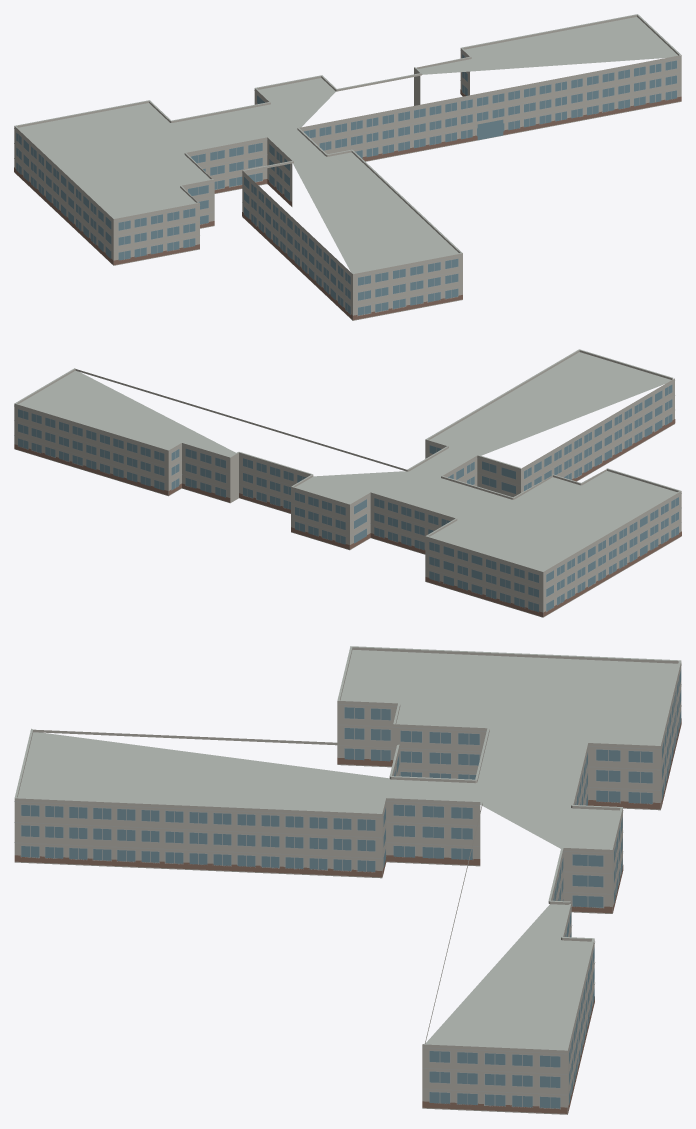
File: public-0779413d-1518-4b87-9c7f-f5390f513fe1.glb
3 views of the same model, one above another, from view 1: azimuth 30°, elevation 25°; view 2: azimuth 150°, elevation 25°; view 3: azimuth 270°, elevation 25° (orthographic). The views are drawn at different scales.
Visible parts, largest first — view 1: public-0779413d-1518-4b87-9c7f-f5390f513fe1; view 2: public-0779413d-1518-4b87-9c7f-f5390f513fe1; view 3: public-0779413d-1518-4b87-9c7f-f5390f513fe1.
Boxes of the visible parts, bbox=[...] form: public-0779413d-1518-4b87-9c7f-f5390f513fe1: bbox=[14, 14, 681, 320]; public-0779413d-1518-4b87-9c7f-f5390f513fe1: bbox=[14, 349, 681, 617]; public-0779413d-1518-4b87-9c7f-f5390f513fe1: bbox=[14, 646, 681, 1114].
Bounding box in the file's own units: 124 × 9.15 × 86.27.
